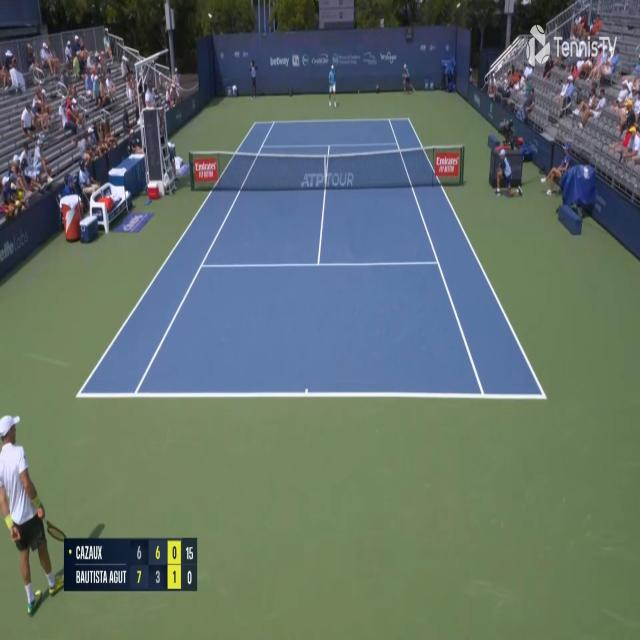tennis-player: (0, 405, 68, 618), (326, 61, 338, 108)
